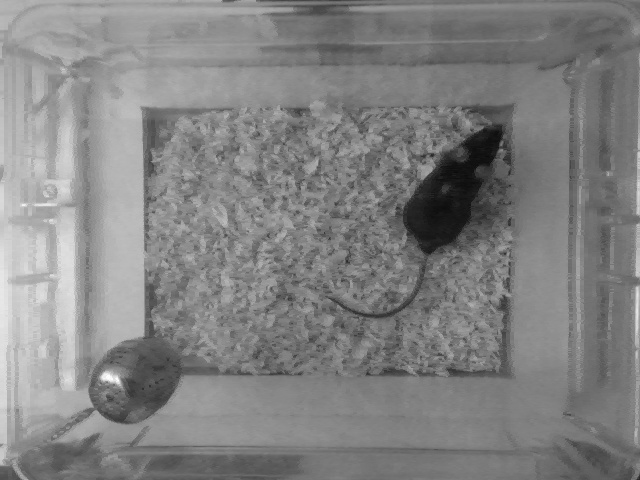mice: (322, 117, 508, 319)
